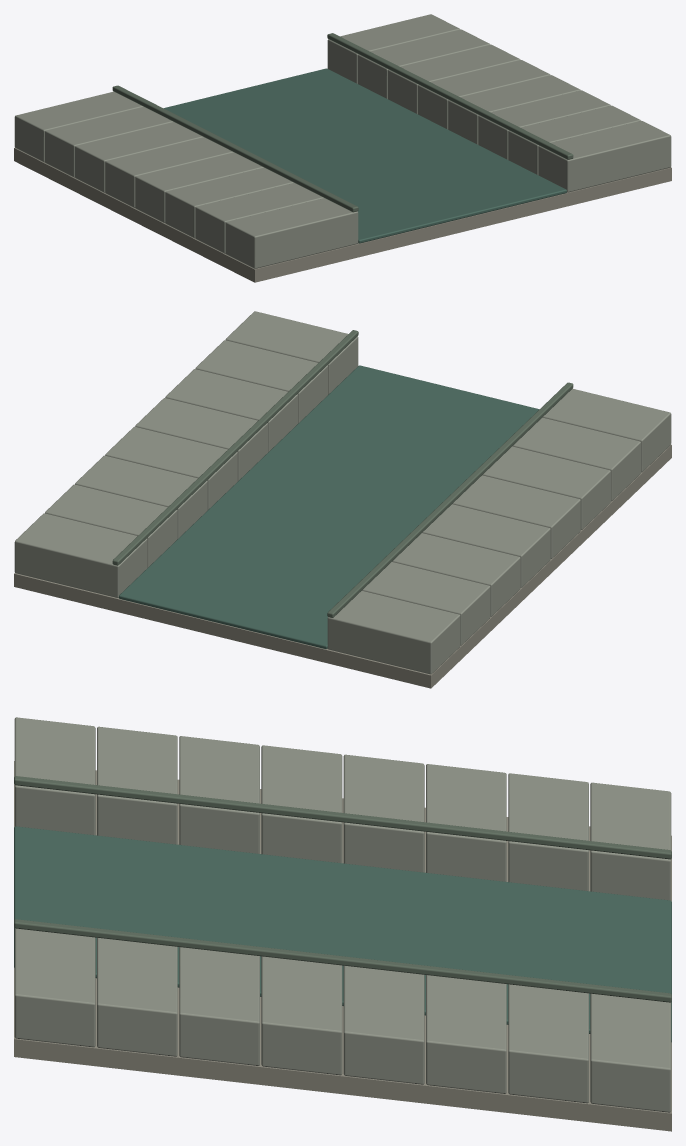
Rendered from undercity-sewers-and-thieves-den-brick-channel-slope-0ebbbaa6__25035.glb.
3 renders of one model, top to bottom at view 1: azimuth 30°, elevation 25°; view 2: azimuth 150°, elevation 25°; view 3: azimuth 270°, elevation 25°, orthographic. The views are drawn at different scales.
Parts seen in each view (by area): view 1: brick-channel-slope; view 2: brick-channel-slope; view 3: brick-channel-slope.
Part boxes in pixels (box(x1,y1,x2,y2)): brick-channel-slope: box(14, 14, 671, 282); brick-channel-slope: box(14, 311, 671, 688); brick-channel-slope: box(14, 717, 671, 1131).
Size of the model in its own units: 4 by 0.9636 by 4.
